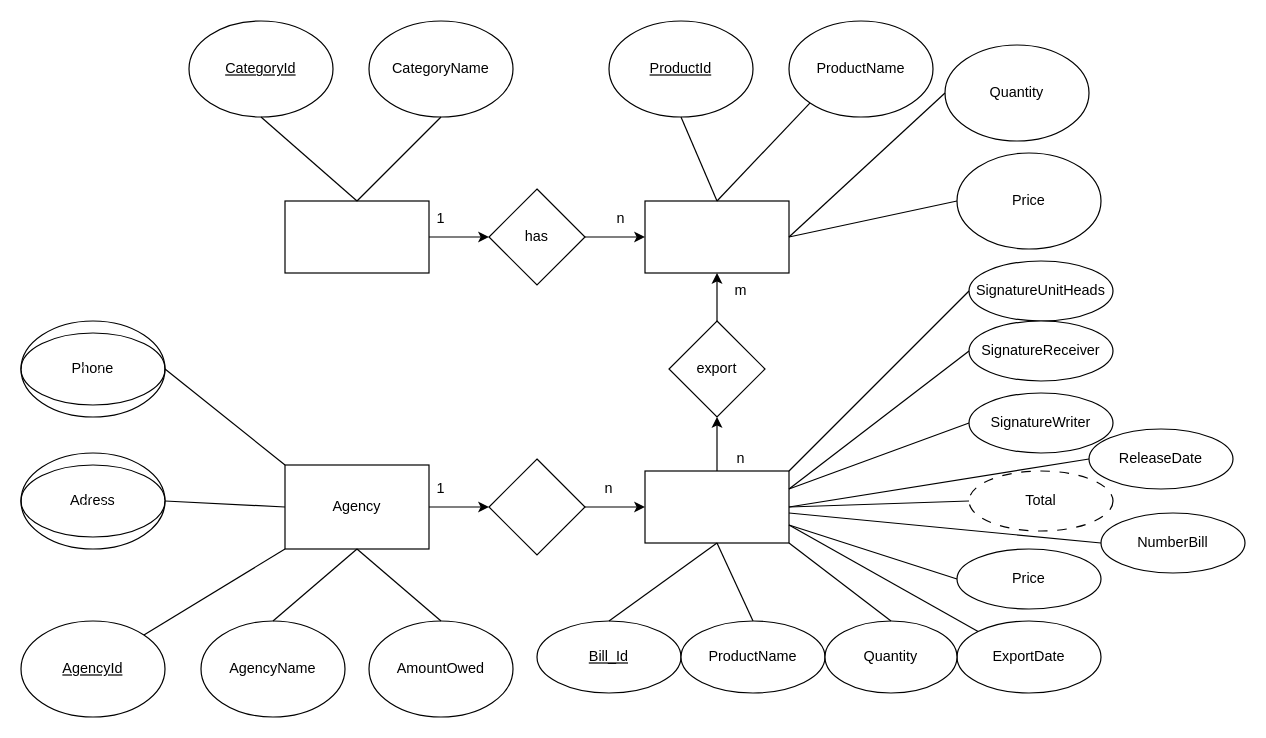
The diagram is 1266 pixels wide and 738 high, and some of its shapes have lost their labels. The shapes that lost their labels are listed below. From the top down, each one's centre as x and y in pixels, then its label:
pixel 356 236: Categories
pixel 716 236: Products
pixel 536 506: request
pixel 716 506: Bill
